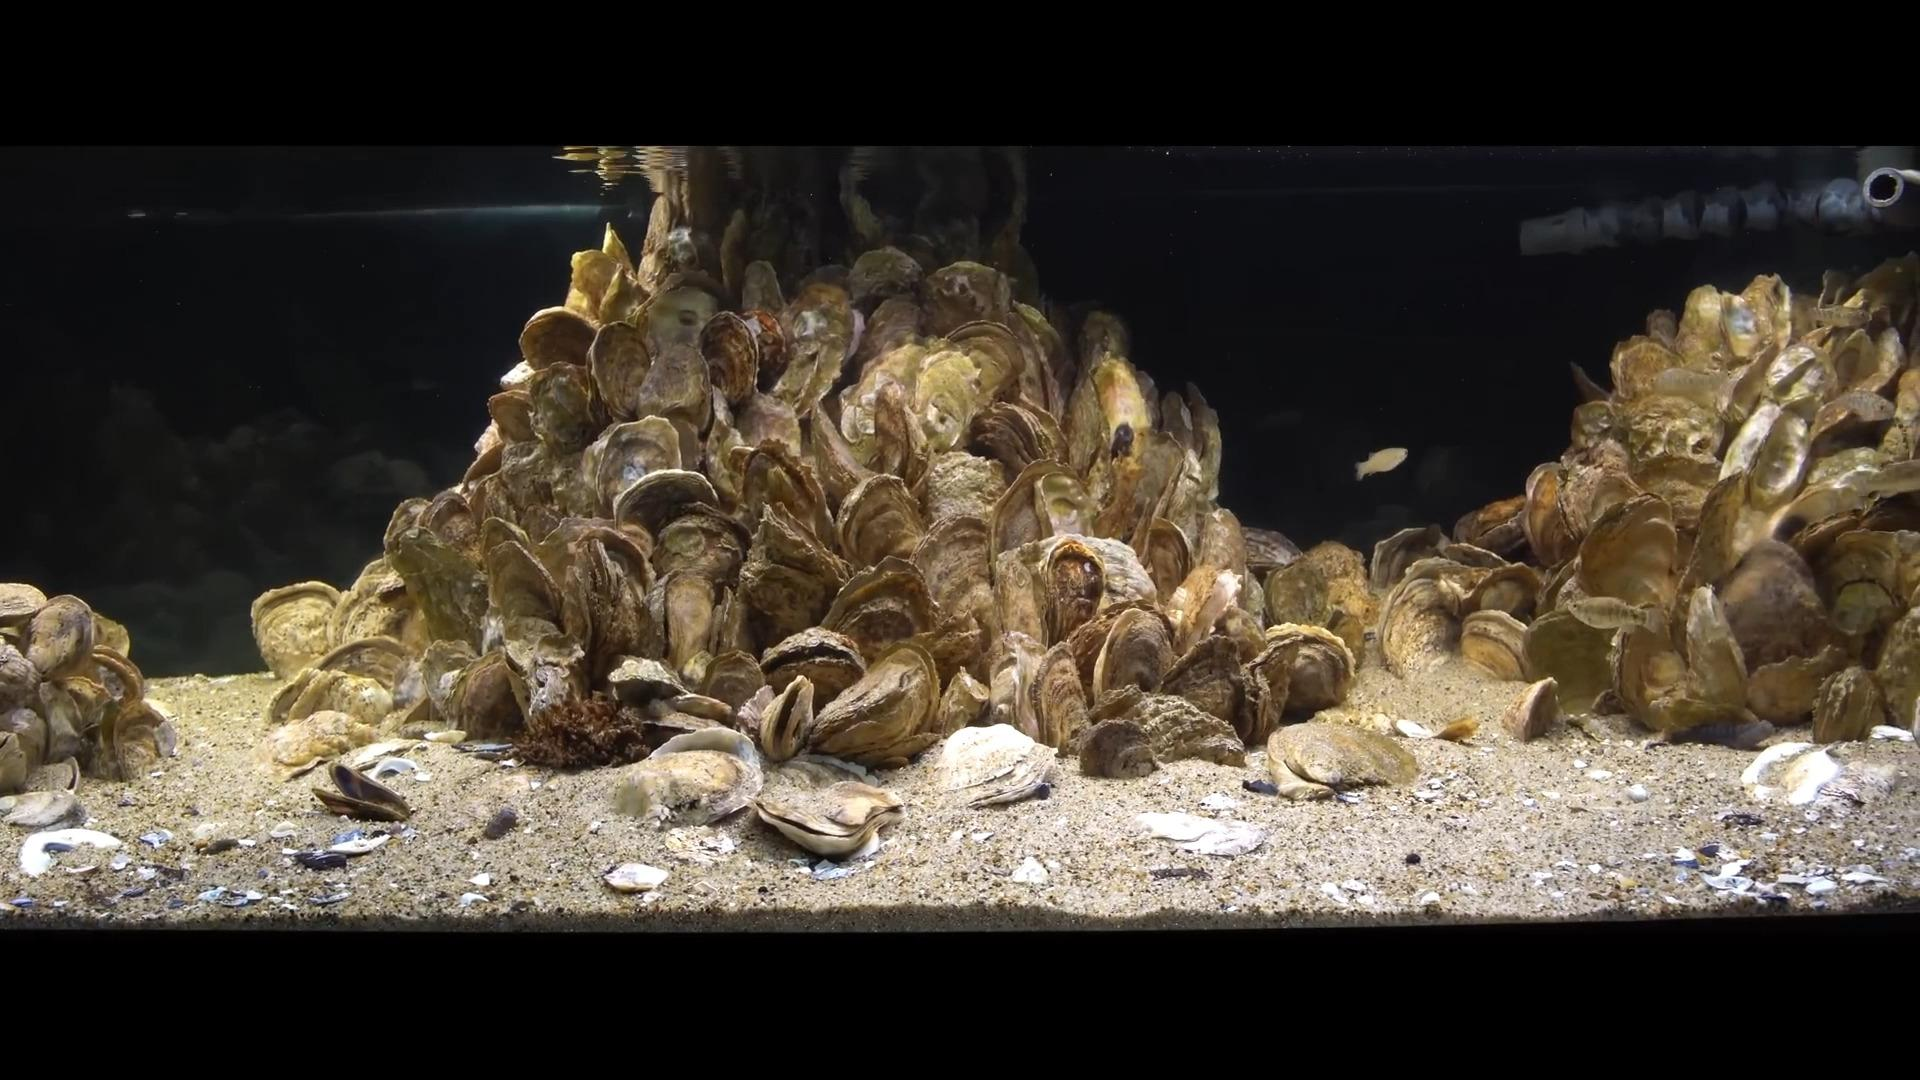Oyster: (384, 506, 497, 661), (803, 645, 944, 764), (608, 725, 766, 829), (735, 500, 847, 637), (816, 554, 938, 663), (477, 525, 571, 666), (1572, 495, 1680, 615), (1265, 719, 1420, 799), (1535, 452, 1646, 564), (1522, 605, 1631, 719), (1098, 690, 1249, 770), (756, 781, 901, 858), (934, 316, 1039, 423), (1249, 622, 1358, 725), (733, 439, 829, 555), (1154, 628, 1255, 736), (985, 458, 1081, 571), (1615, 621, 1709, 735), (779, 277, 857, 413), (910, 509, 1002, 621), (585, 413, 687, 513), (833, 471, 928, 578), (563, 521, 655, 629), (1375, 570, 1465, 680), (1813, 526, 1915, 624), (807, 404, 891, 521), (248, 579, 344, 682), (1683, 465, 1759, 592), (909, 343, 992, 456), (1679, 583, 1747, 716), (836, 360, 919, 469), (612, 464, 724, 541), (1615, 393, 1721, 473), (760, 626, 866, 705), (1088, 352, 1154, 480), (1088, 605, 1175, 700), (632, 331, 715, 429), (448, 649, 531, 745), (276, 669, 398, 733), (1739, 738, 1854, 806), (649, 505, 748, 582), (514, 630, 591, 729), (922, 448, 1013, 531), (1771, 476, 1880, 545), (524, 360, 599, 458), (990, 545, 1051, 665), (1029, 640, 1091, 754), (918, 258, 1010, 335), (1742, 655, 1841, 727), (313, 754, 417, 822), (563, 236, 638, 328), (1743, 409, 1813, 506), (305, 634, 417, 695), (1164, 562, 1238, 653), (659, 568, 720, 679), (589, 319, 653, 423), (971, 398, 1055, 476), (24, 593, 98, 682), (988, 629, 1046, 741), (104, 702, 183, 781), (1871, 601, 1920, 727), (1134, 513, 1195, 612), (516, 306, 601, 376), (731, 386, 808, 463), (1809, 666, 1883, 745), (699, 313, 760, 407), (1370, 524, 1449, 596), (756, 671, 816, 765), (1457, 609, 1536, 680), (17, 827, 121, 881), (1844, 253, 1920, 326), (1731, 270, 1793, 359), (644, 278, 721, 348), (604, 655, 696, 713), (696, 649, 767, 723), (1457, 563, 1543, 624), (4, 770, 87, 831), (649, 727, 757, 773), (1809, 389, 1900, 443), (1522, 460, 1569, 563), (845, 245, 923, 307), (1453, 495, 1530, 556), (1076, 720, 1154, 781), (1756, 340, 1828, 406), (1675, 282, 1729, 367), (1646, 365, 1734, 417), (86, 646, 150, 712), (37, 679, 90, 760), (1499, 678, 1561, 742), (964, 764, 1050, 808), (740, 307, 789, 385), (335, 738, 427, 778), (0, 640, 45, 719), (1, 704, 49, 777), (1237, 525, 1302, 575), (265, 674, 315, 727), (0, 580, 50, 632), (1394, 716, 1481, 745), (22, 757, 80, 798), (600, 861, 670, 893)
